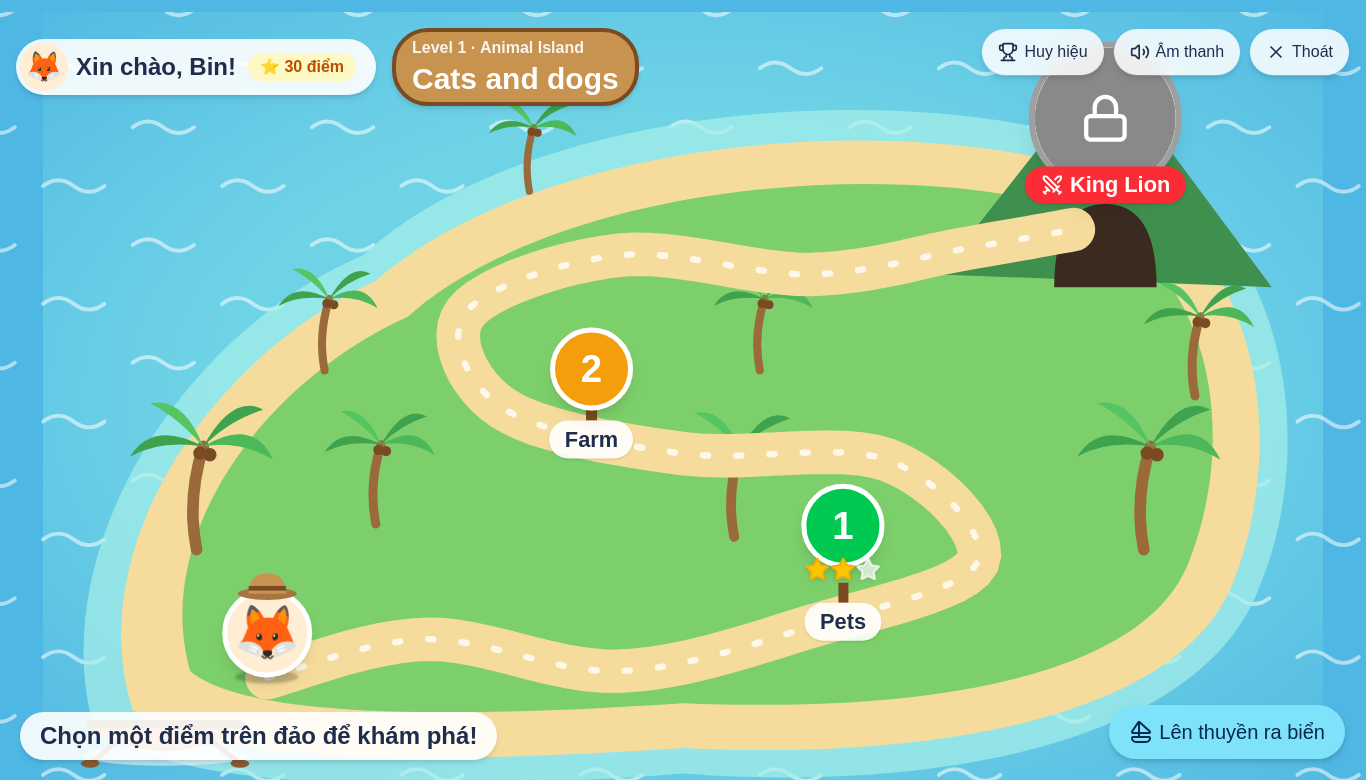
Test: adventure map › explains a locked lesson or boss instead of opening it
Click the link with aria-label "Boss: King Lion". click: point(1105, 123)
box: [1025,42,1186,204]
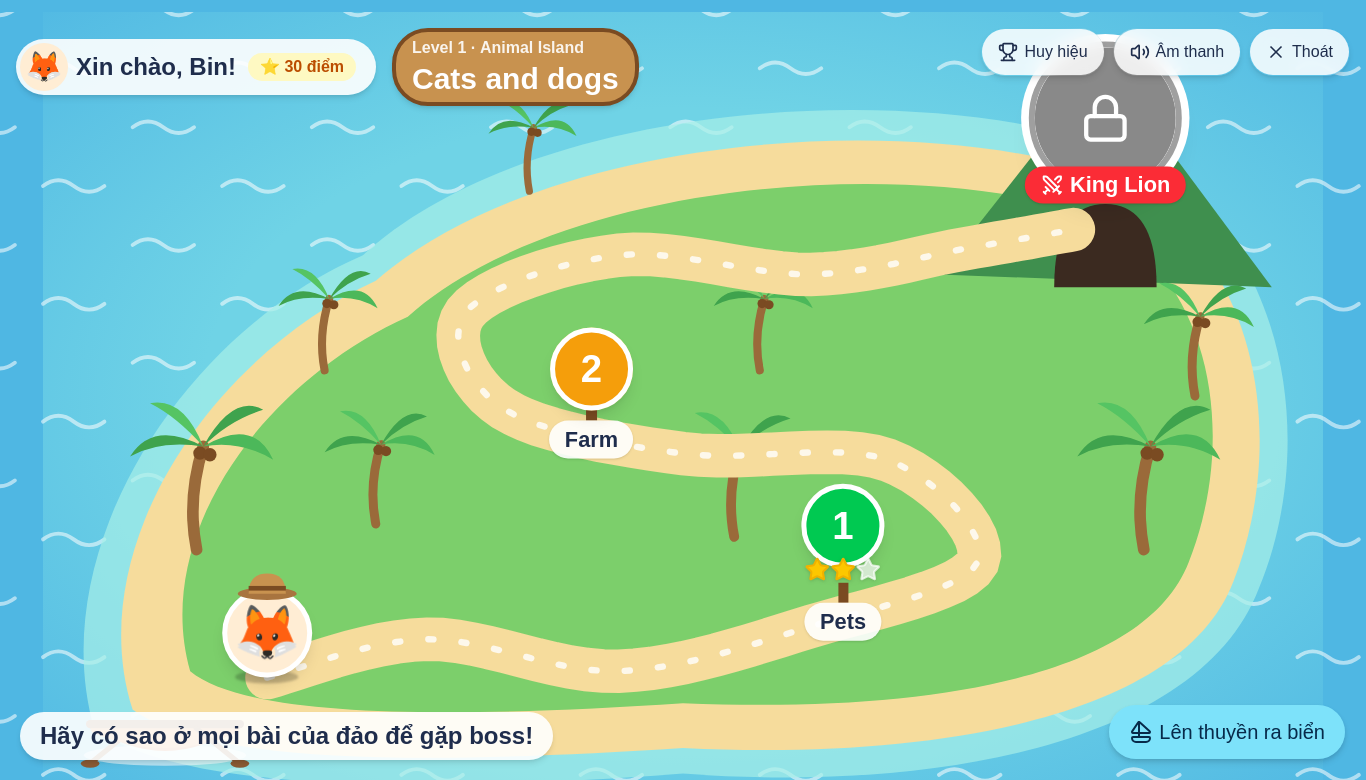
expect the text "Hãy có sao ở mọi bài của đảo để gặp boss!" is shown: met, box [20,712,553,760]
